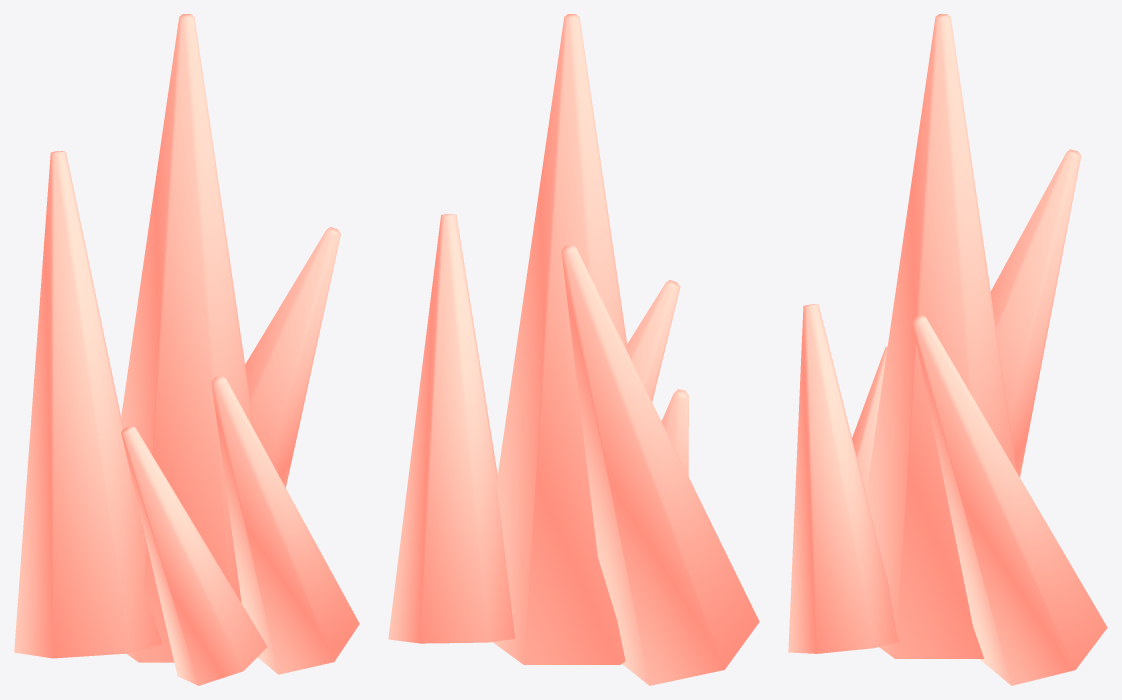
Rendered from crystal_red.glb.
3 views of the same model, side by side, from view 1: azimuth 30°, elevation 25°; view 2: azimuth 150°, elevation 25°; view 3: azimuth 270°, elevation 25° (orthographic).
Parts seen in each view (by area): view 1: CrystalRed; view 2: CrystalRed; view 3: CrystalRed.
Part boxes in pixels (box(x1,y1,x2,y2)): CrystalRed: box(14, 14, 359, 685); CrystalRed: box(388, 14, 759, 685); CrystalRed: box(788, 14, 1107, 685).
Bounding box in the file's own units: 1.82 × 3.55 × 1.67.
